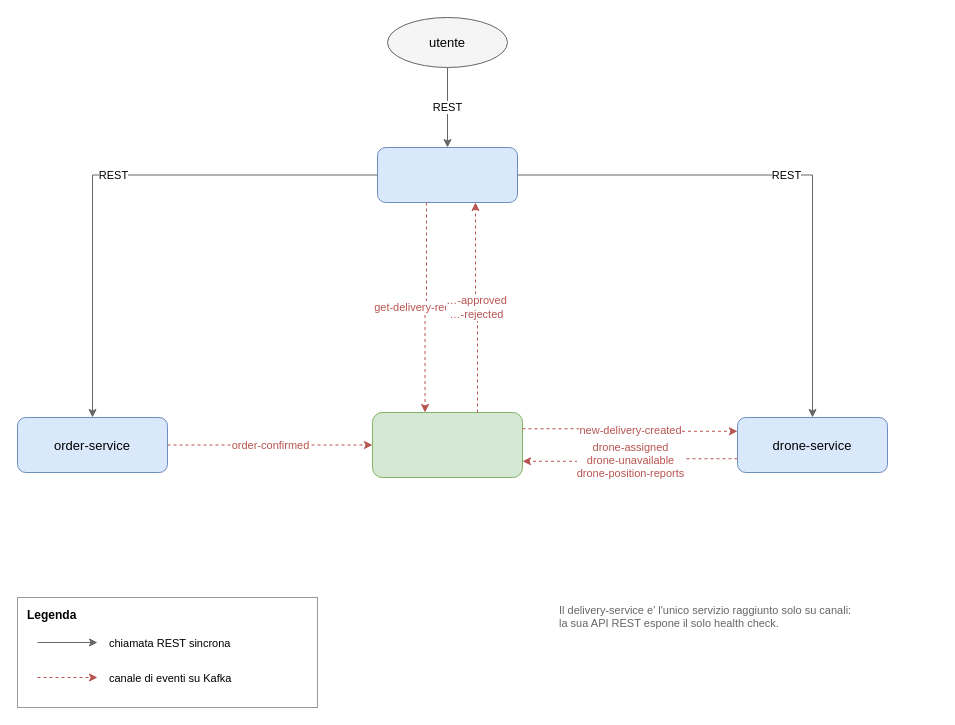
Some shapes in this 955 by 725 pixel diagram are drawn without their labels. The centre of each missing label's shape, as x and y in pixels:
"api-gateway" goes at (447,174).
"delivery-service event-driven" goes at (447,445).
